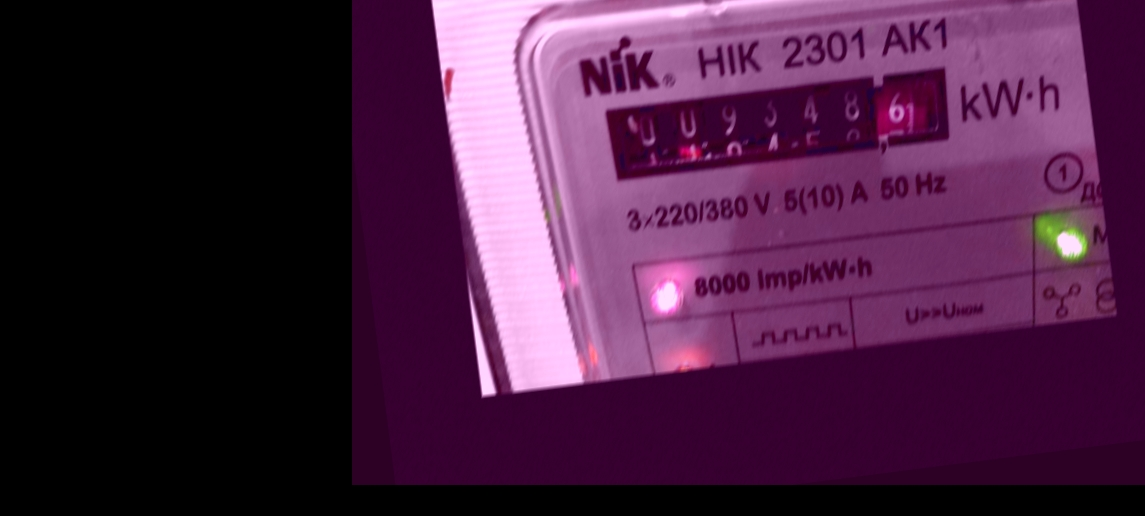0: (674, 102, 699, 141), (633, 110, 657, 147)
3: (755, 93, 781, 127)
4: (795, 88, 820, 127)
6: (882, 87, 908, 123)
8: (838, 84, 862, 121)
9: (716, 98, 739, 134)
screen: (579, 48, 974, 198)
